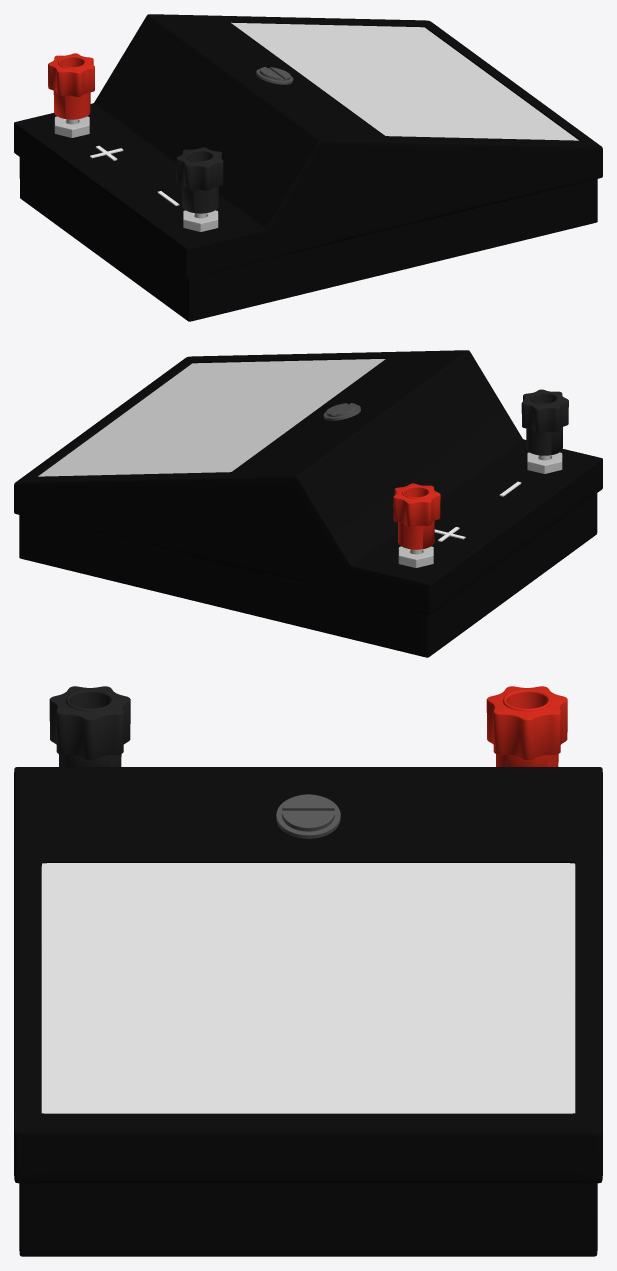
Rendered from ampermeter.fbx.
3 renders of one model, top to bottom at view 1: azimuth 30°, elevation 25°; view 2: azimuth 150°, elevation 25°; view 3: azimuth 270°, elevation 25°, orthographic. The views are drawn at different scales.
Visible parts, largest first — view 1: Cube_005; view 2: Cube_005; view 3: Cube_005.
Boxes of the visible parts, x1,y1,x2,y2 form: Cube_005: (14, 14, 602, 321); Cube_005: (14, 350, 602, 657); Cube_005: (14, 686, 602, 1256).
Bounding box in the file's own units: 1266 × 440 × 909.
